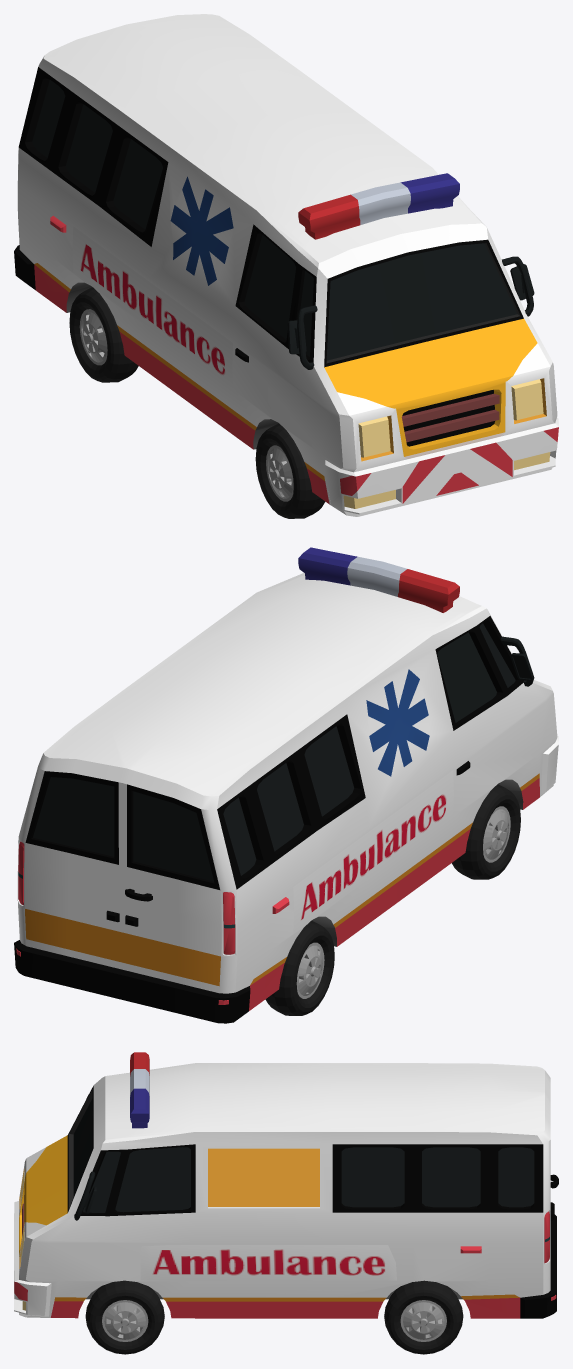
Rendered from Ambulance.fbx.
3 views of the same model, one above another, from view 1: azimuth 30°, elevation 25°; view 2: azimuth 150°, elevation 25°; view 3: azimuth 270°, elevation 25° (orthographic). The views are drawn at different scales.
Visible parts, largest first — view 1: Ambulance, Frontright Wheel.002, Backright Wheel.002; view 2: Ambulance, Backright Wheel.002, Frontright Wheel.002; view 3: Ambulance, Frontleft Wheel.002, Backleft Wheel.002.
Boxes of the visible parts, box(x1,y1,x2,y2) form: Ambulance: box(14, 14, 558, 516); Frontright Wheel.002: box(255, 423, 325, 518); Backright Wheel.002: box(69, 287, 138, 382); Ambulance: box(14, 547, 558, 1023); Backright Wheel.002: box(265, 920, 334, 1015); Frontright Wheel.002: box(452, 784, 520, 879); Ambulance: box(14, 1052, 558, 1318); Frontleft Wheel.002: box(85, 1280, 164, 1354); Backleft Wheel.002: box(384, 1280, 463, 1354).
Bounding box in the file's own units: 135 × 156 × 325.
Materials: 5 (2 with a texture image).
